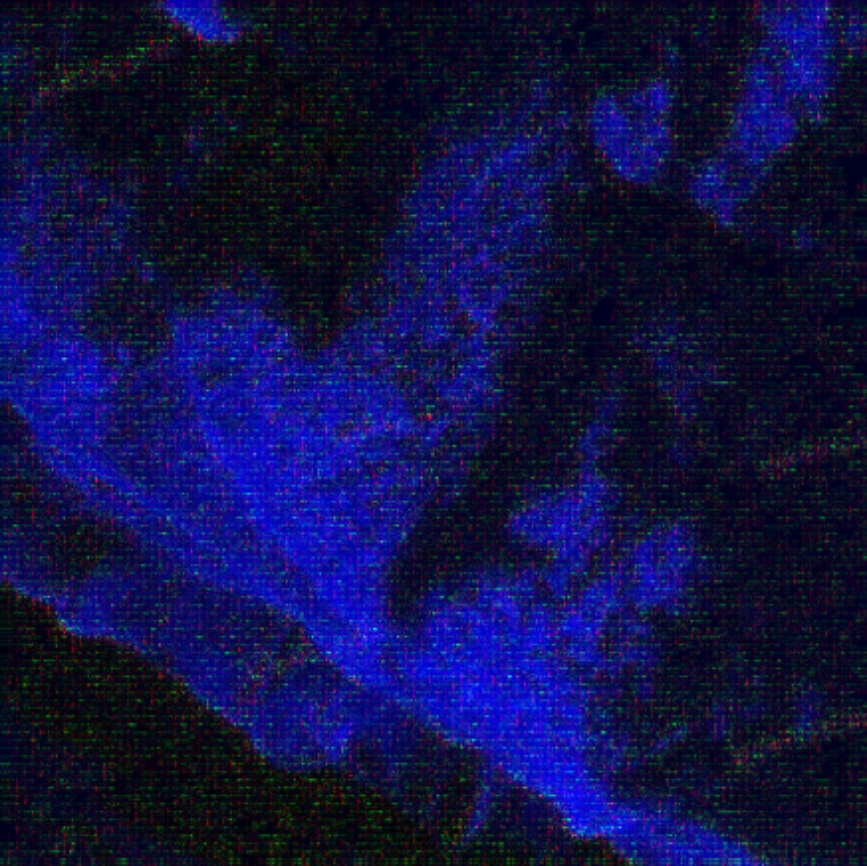rip_current: (326, 258, 713, 673)
